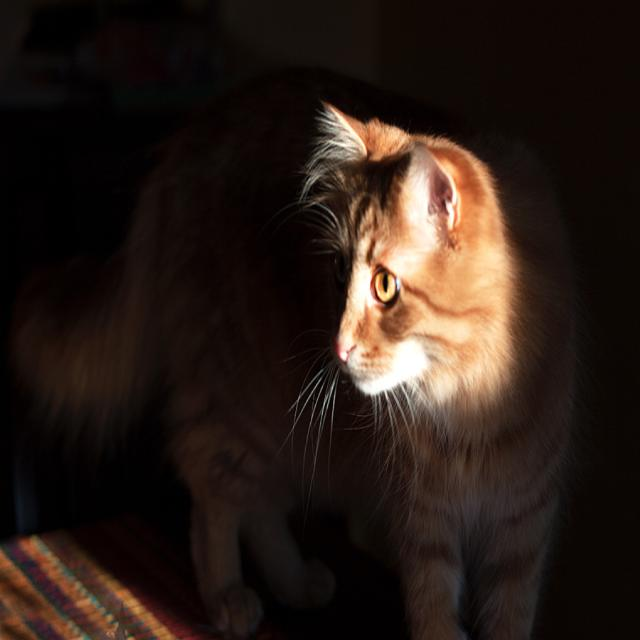Cat: (0, 69, 597, 639)
